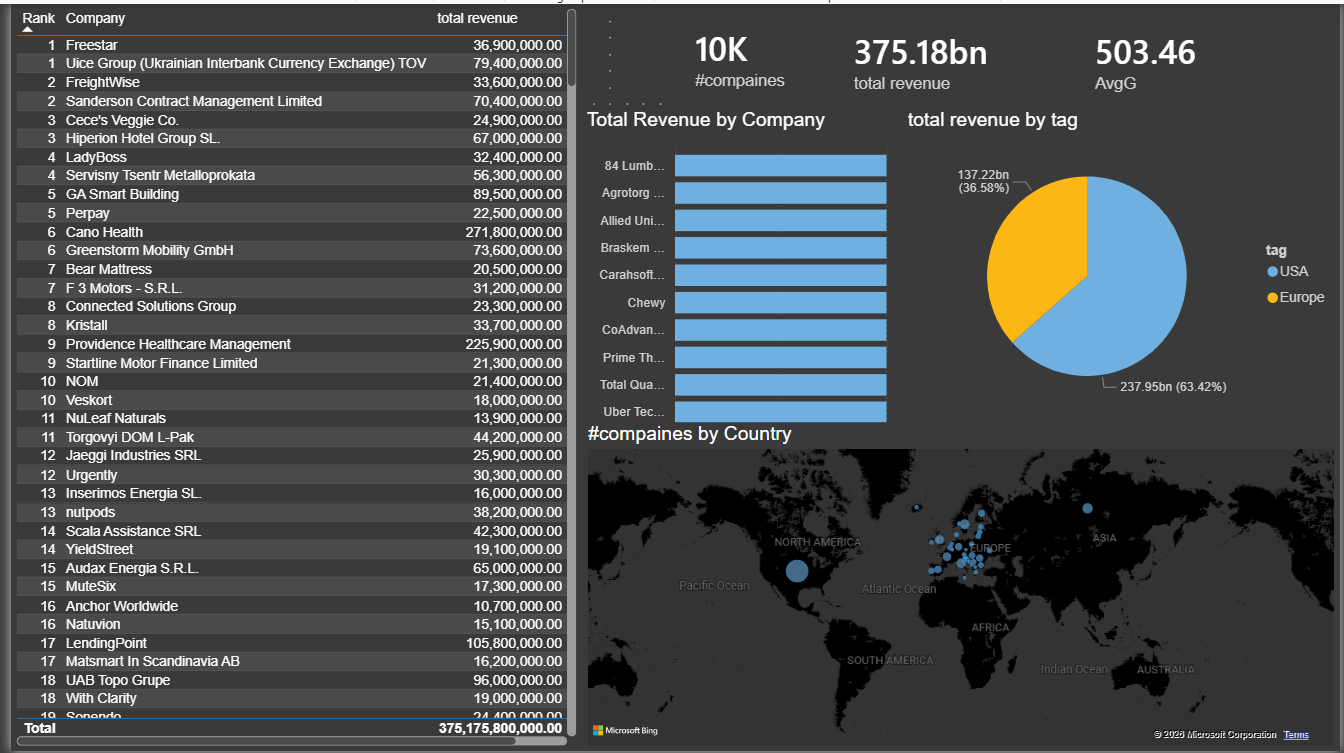

The page's visual inventory and layout, read from the dashboard file:
{"tool":"powerbi","page":{"name":"Page 1","canvas":[1280,720],"ordinal":0},"visuals":[{"type":"cardVisual","fields":{"Data":["dax_measures.total revenue"]},"box":[781.8,0,252.1,108],"z":0},{"type":"cardVisual","fields":{"Data":["dax_measures.AvgG"]},"box":[1014.1,0,255.6,108],"z":1000},{"type":"barChart","title":"Total Revenue by Company","fields":{"Category":["worldwide.Company"],"Y":["CountNonNull(worldwide.Revenue)"]},"box":[550,101.1,307.8,341.1],"z":2000},{"type":"pieChart","fields":{"Y":["dax_measures.total revenue"],"Category":["worldwide.tag"]},"box":[858.9,101.1,421.1,302.2],"z":3000},{"type":"tableEx","fields":{"Values":["worldwide.Rank","worldwide.Company","dax_measures.total revenue","worldwide.tag"]},"box":[0,0,550,720],"z":4000},{"type":"map","fields":{"Size":["dax_measures.#compaines"],"Category":["worldwide.Country"]},"box":[551.1,403.3,728.9,316.7],"z":5000},{"type":"cardVisual","fields":{"Data":["dax_measures.#compaines"]},"box":[629.6,0,149.8,101.1],"z":6000}]}

Visuals, with their boxes in screenshot pixels (x1, y1, x2, y2), scaled from the page's 1280x720 canvas onto the 1344x753 screenshot:
cardVisual - dax_measures.total revenue: bbox=(821, 0, 1086, 113)
cardVisual - dax_measures.AvgG: bbox=(1065, 0, 1333, 113)
"Total Revenue by Company" barChart: bbox=(578, 106, 901, 462)
pieChart - dax_measures.total revenue x worldwide.tag: bbox=(902, 106, 1343, 422)
tableEx - worldwide.Rank x worldwide.Company: bbox=(0, 0, 578, 752)
map - dax_measures.#compaines x worldwide.Country: bbox=(579, 422, 1343, 752)
cardVisual - dax_measures.#compaines: bbox=(661, 0, 818, 106)
